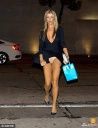female: (42, 9, 60, 36)
